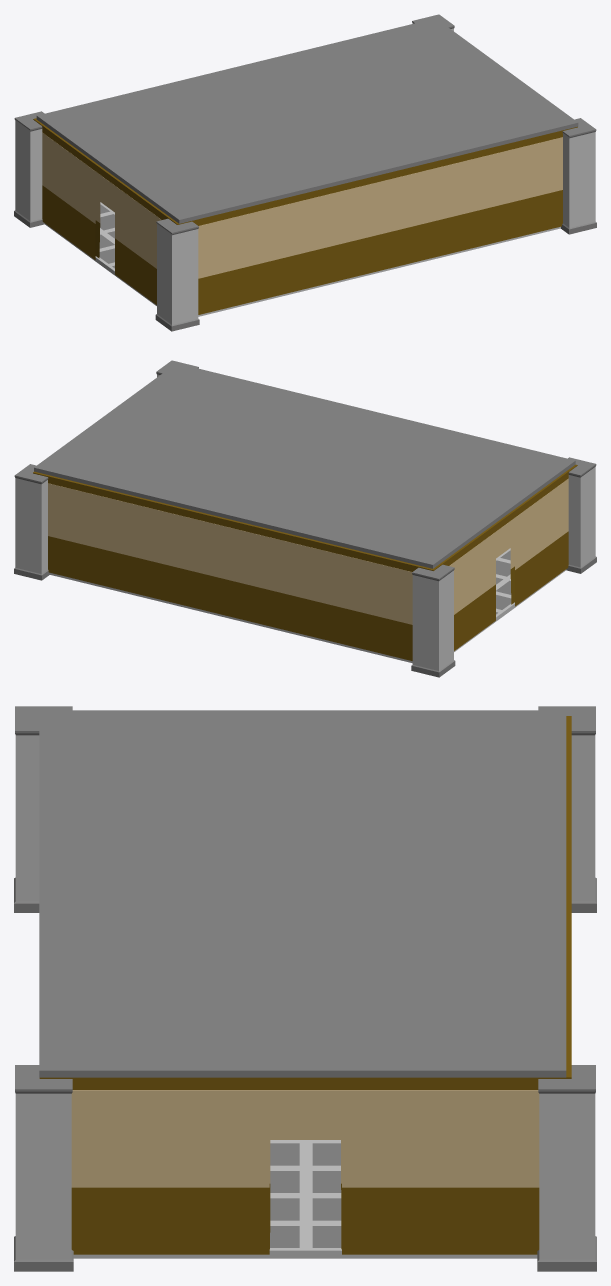
Rendered from Test__Room_03.fbx.
The picture shows the model from 3 angles, top to bottom: view 1: azimuth 30°, elevation 25°; view 2: azimuth 150°, elevation 25°; view 3: azimuth 270°, elevation 25°; orthographic projection. The views are drawn at different scales.
Visible parts, largest first — view 1: Roof, Wall, Pole, Wall.Upper, Floor; view 2: Roof, Wall, Pole, Wall.Upper, Floor; view 3: Roof, Wall, Pole, Floor, Wall.Upper.
Part boxes in pixels (box(x1,y1,x2,y2)): Roof: box(36, 18, 578, 223); Wall: box(42, 132, 562, 314); Pole: box(14, 14, 596, 331); Wall.Upper: box(33, 118, 577, 225); Floor: box(44, 202, 560, 316); Roof: box(34, 363, 575, 568); Wall: box(48, 478, 568, 660); Pole: box(14, 360, 596, 677); Wall.Upper: box(33, 464, 577, 571); Floor: box(49, 548, 566, 663); Roof: box(39, 710, 566, 1077); Wall: box(71, 1090, 539, 1254); Pole: box(14, 706, 596, 1271); Floor: box(73, 1140, 537, 1258); Wall.Upper: box(39, 716, 571, 1089).
Bounding box in the file's own units: 1619 × 375 × 1040.
